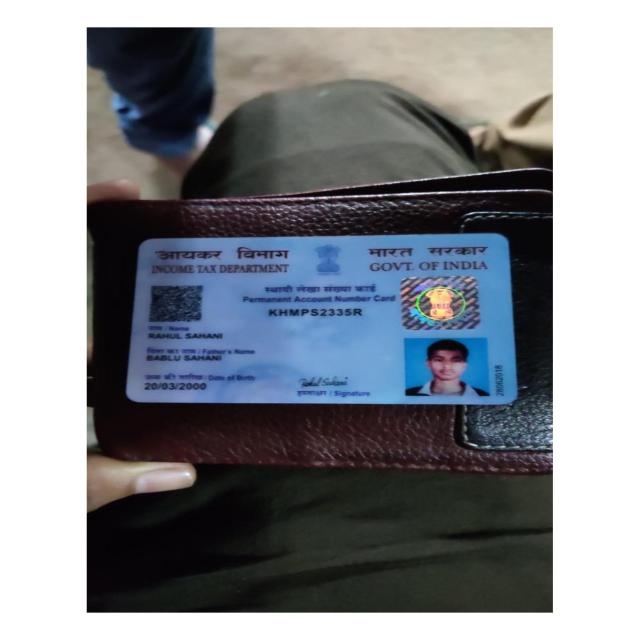pan_card: (134, 234, 507, 403)
